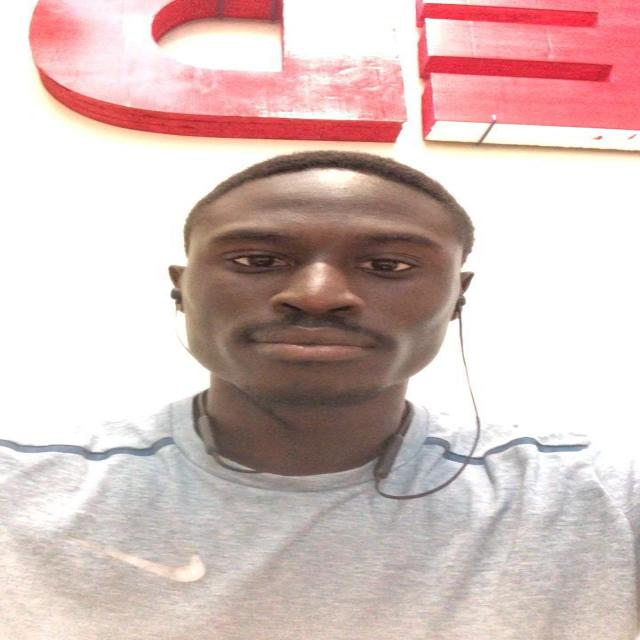face: (172, 171, 472, 409)
